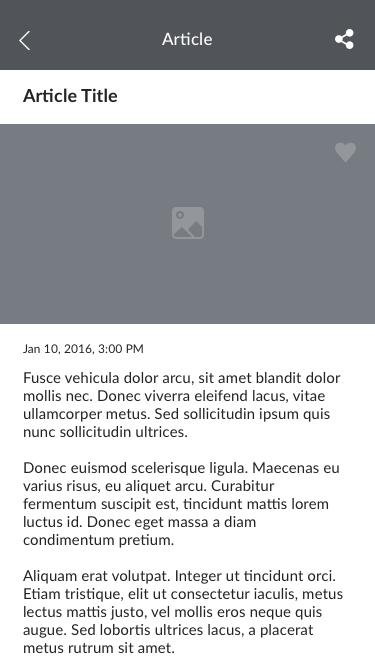Icon: (334, 143, 357, 164), (334, 29, 356, 50), (18, 31, 34, 52)
Image: (1, 125, 375, 324)
Text: (24, 461, 340, 549), (23, 569, 345, 655), (23, 371, 342, 442), (23, 89, 121, 103), (23, 344, 146, 355), (162, 32, 214, 47)
Toolbar: (1, 1, 375, 70)
